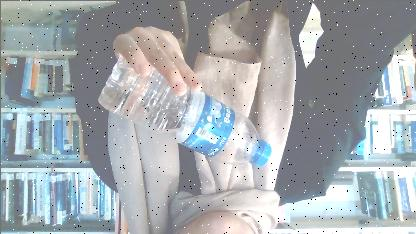Plastic Bottle: (92, 62, 274, 162)
